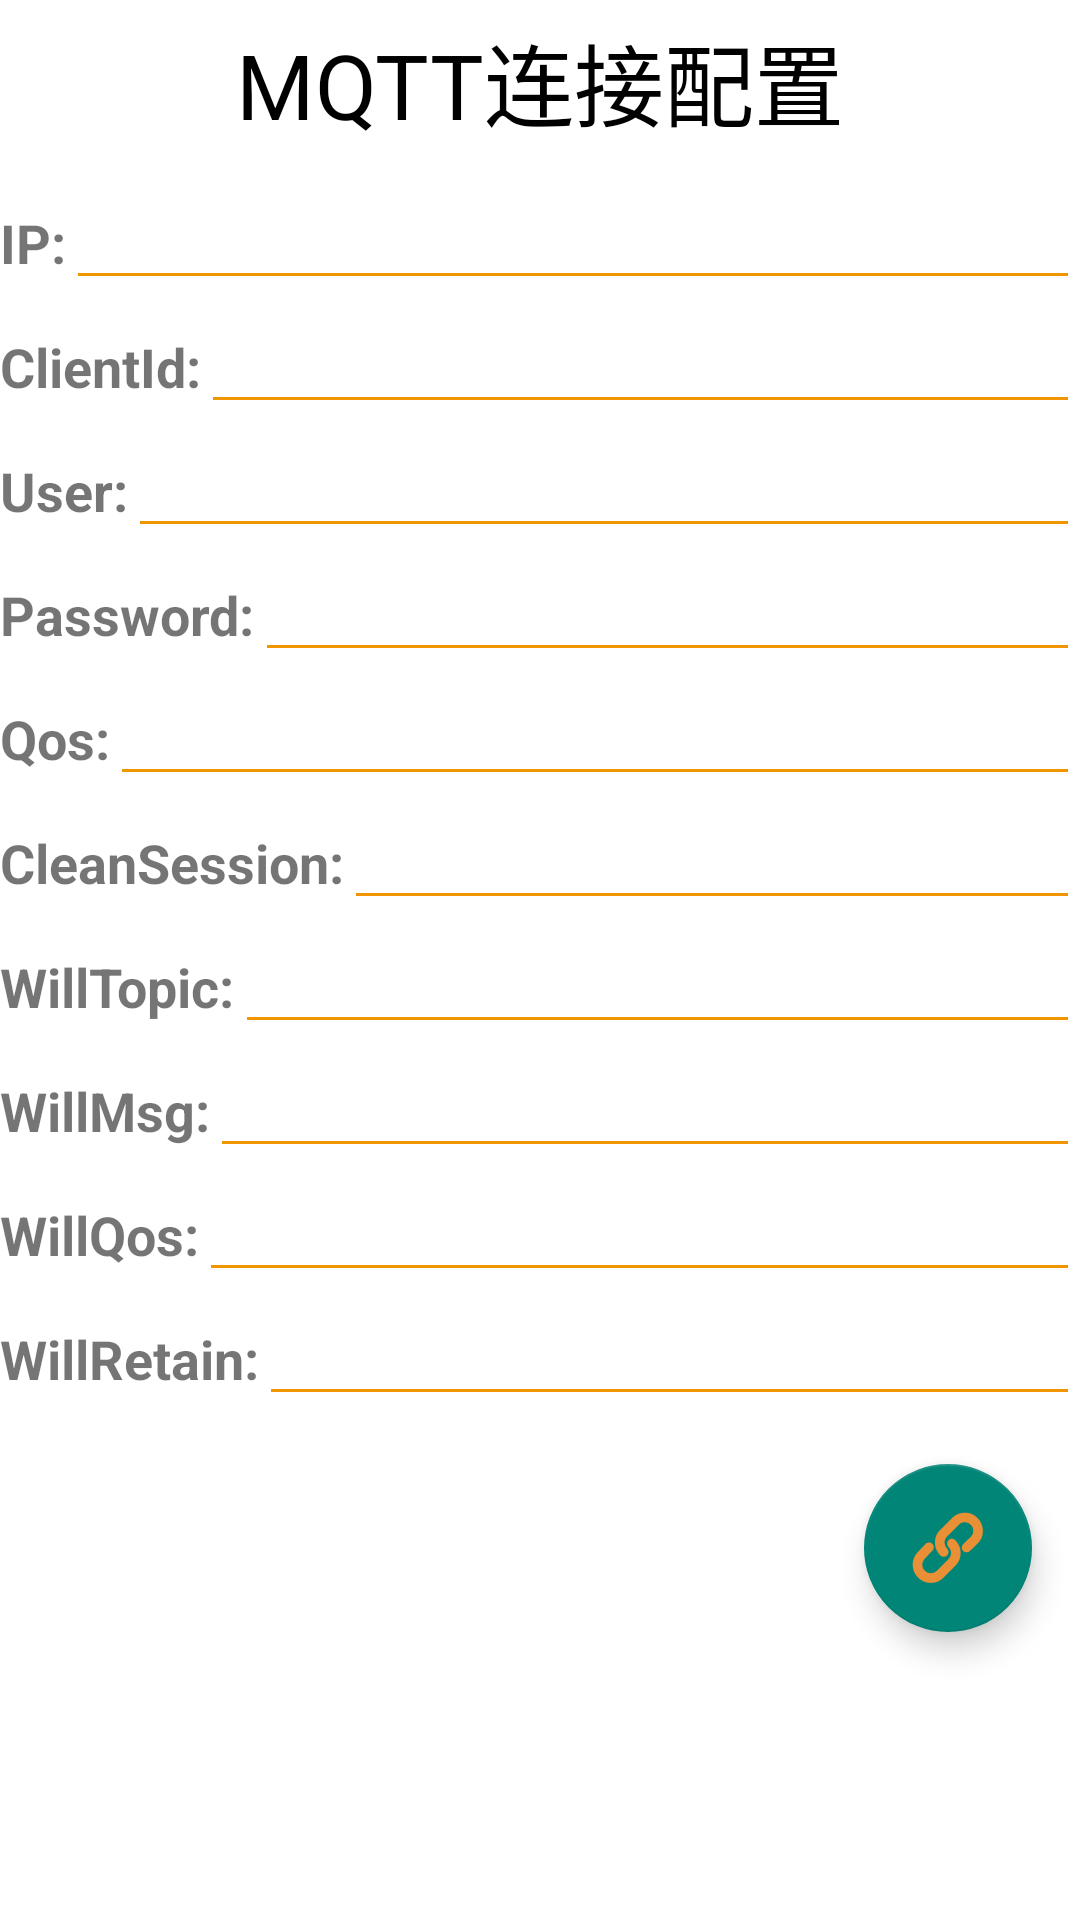

Point at icon controls on the screen. Image size 1080x1920, points as point (x, y).
connect: point (948, 1548)
